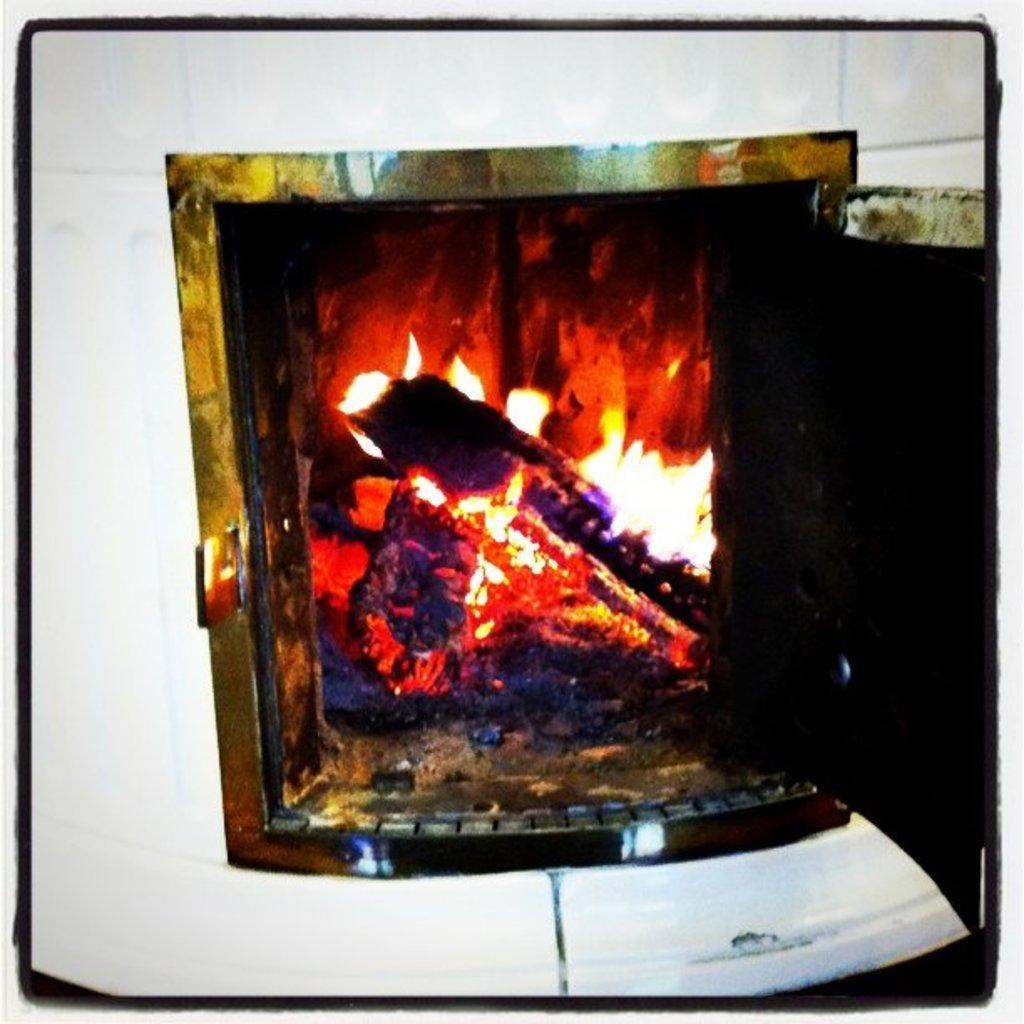Fire: (302, 278, 722, 662)
